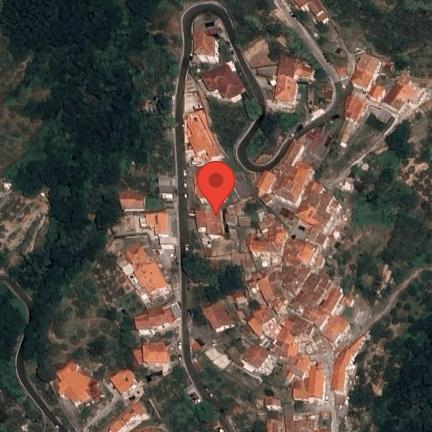area_open: (2, 189, 44, 264)
built: (207, 292, 315, 377), (293, 274, 361, 340), (239, 190, 288, 275), (116, 239, 176, 304), (191, 161, 232, 242), (52, 360, 105, 411), (300, 187, 347, 241), (185, 107, 226, 166), (200, 57, 247, 103), (277, 55, 312, 109), (277, 159, 316, 205), (245, 40, 278, 93), (99, 397, 148, 432), (141, 298, 183, 338), (388, 74, 427, 116), (290, 361, 328, 404), (353, 52, 382, 93), (139, 343, 174, 375), (287, 409, 330, 432), (193, 31, 220, 64), (344, 95, 368, 125)
vegetation_high: (0, 0, 180, 297), (335, 145, 431, 304), (26, 255, 139, 380), (350, 271, 432, 431), (321, 0, 431, 81), (2, 284, 54, 432), (147, 367, 230, 432), (196, 363, 268, 432), (187, 255, 241, 310), (227, 0, 284, 45), (251, 112, 299, 164), (214, 99, 256, 149)
